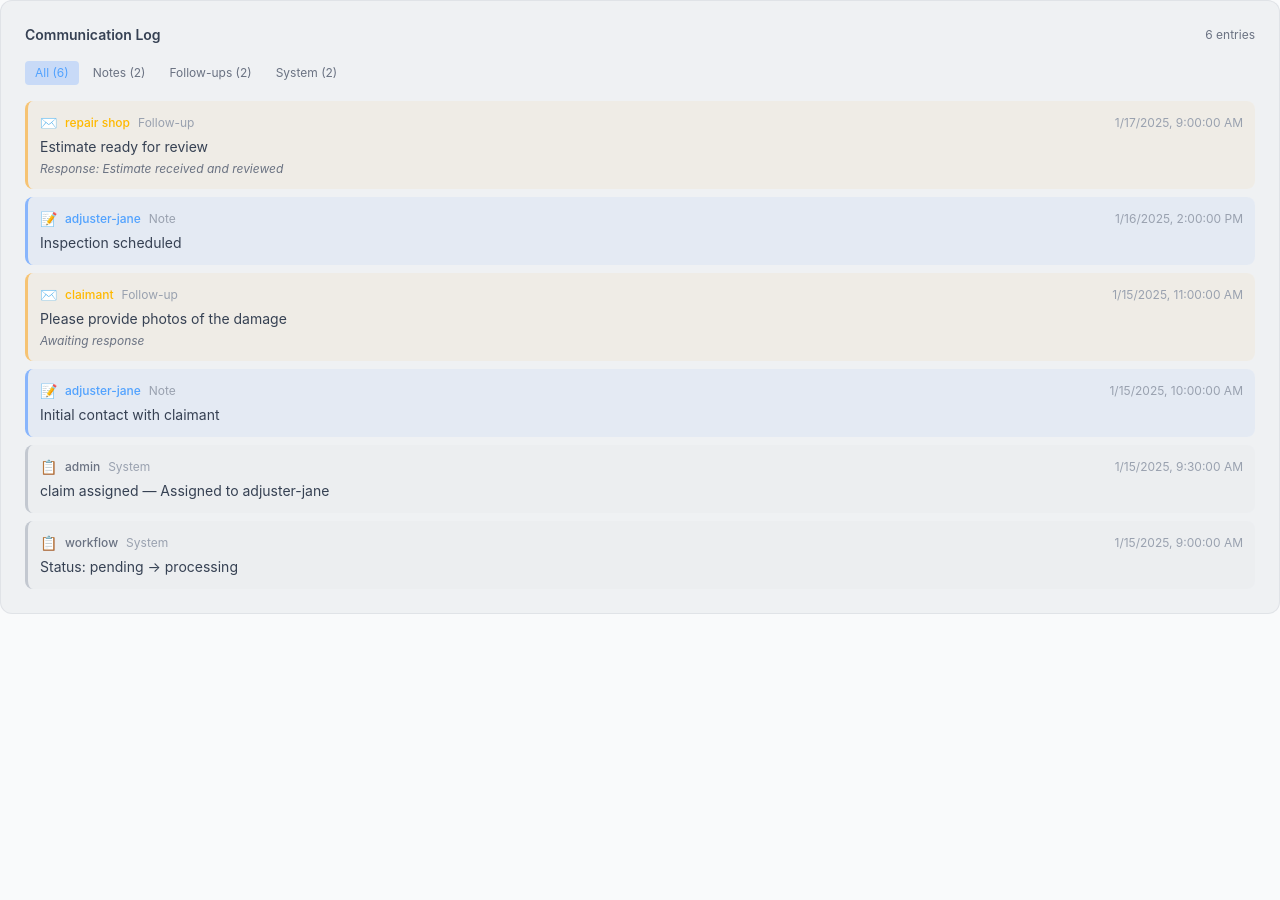
CommunicationLog › filters by system events
This screenshot has width=1280, height=900.
Click the button "System (2)". click: coordinates (306, 73)
box: [266,61,347,85]
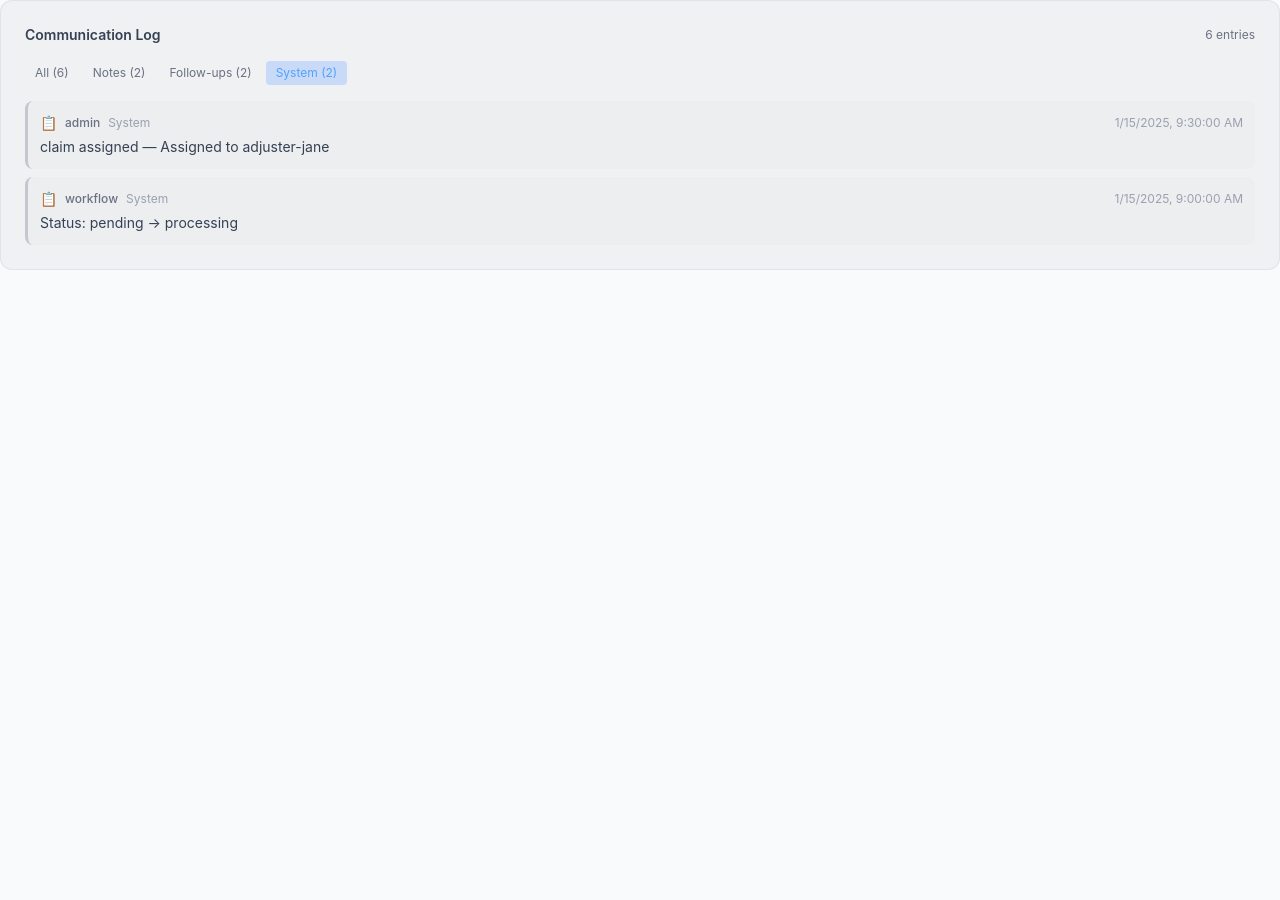
Now the text "Initial contact with claimant" is gone
